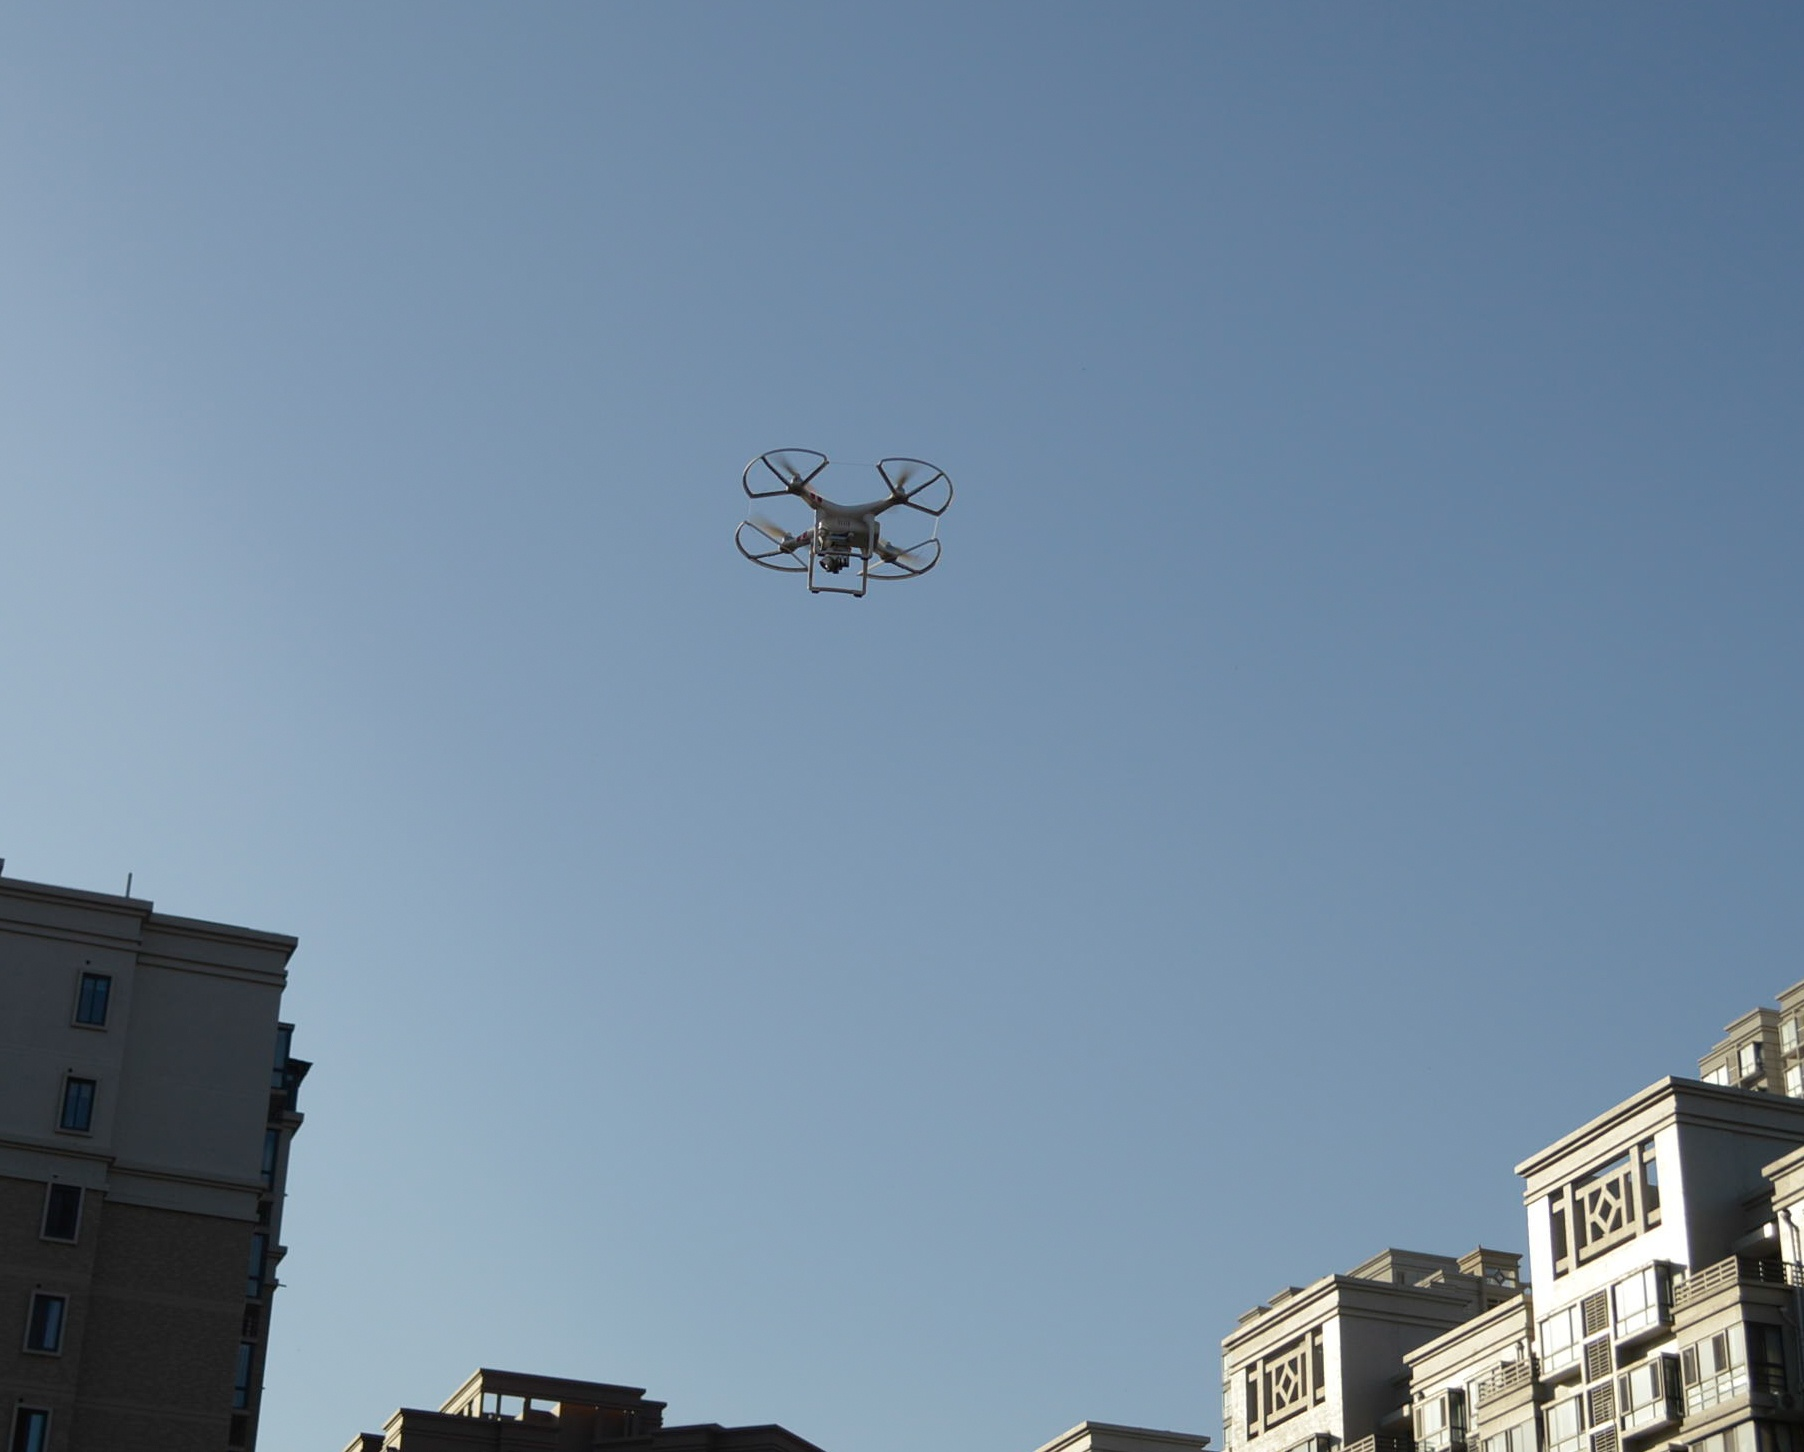DJI: (736, 450, 955, 603)
